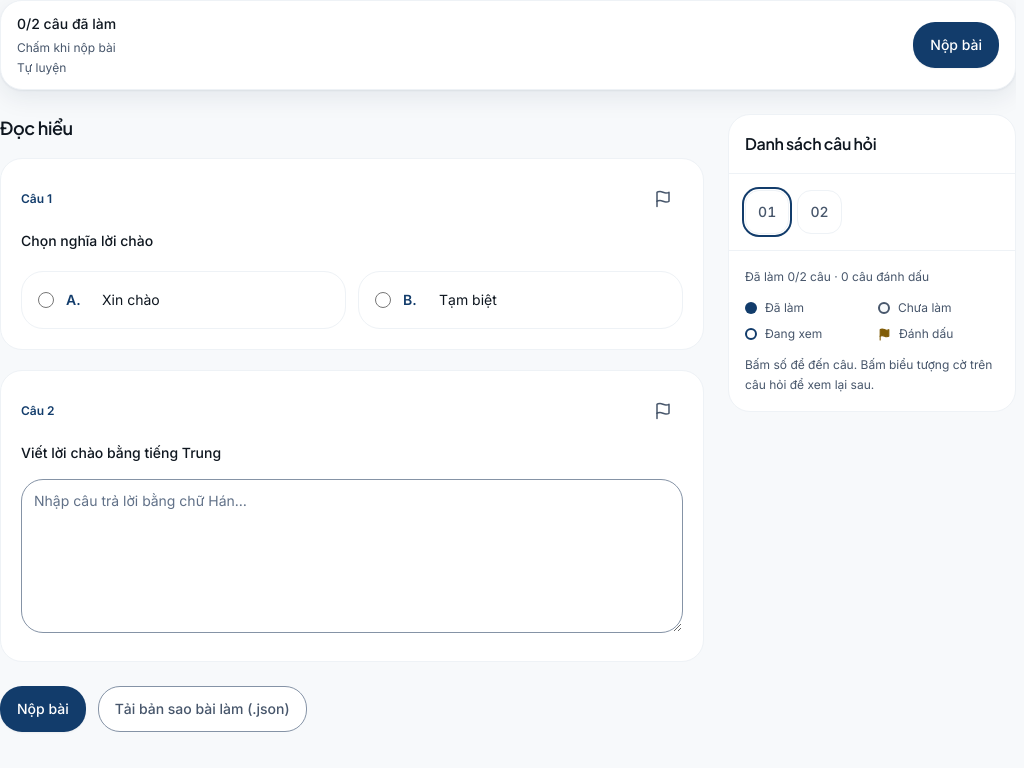
Test: announces a saved attempt once and keeps the JSON backup action explicit
Click the radio button labelled "A. Xin chào".
click(46, 300)  # box x1=38 y1=292 x2=54 y2=308
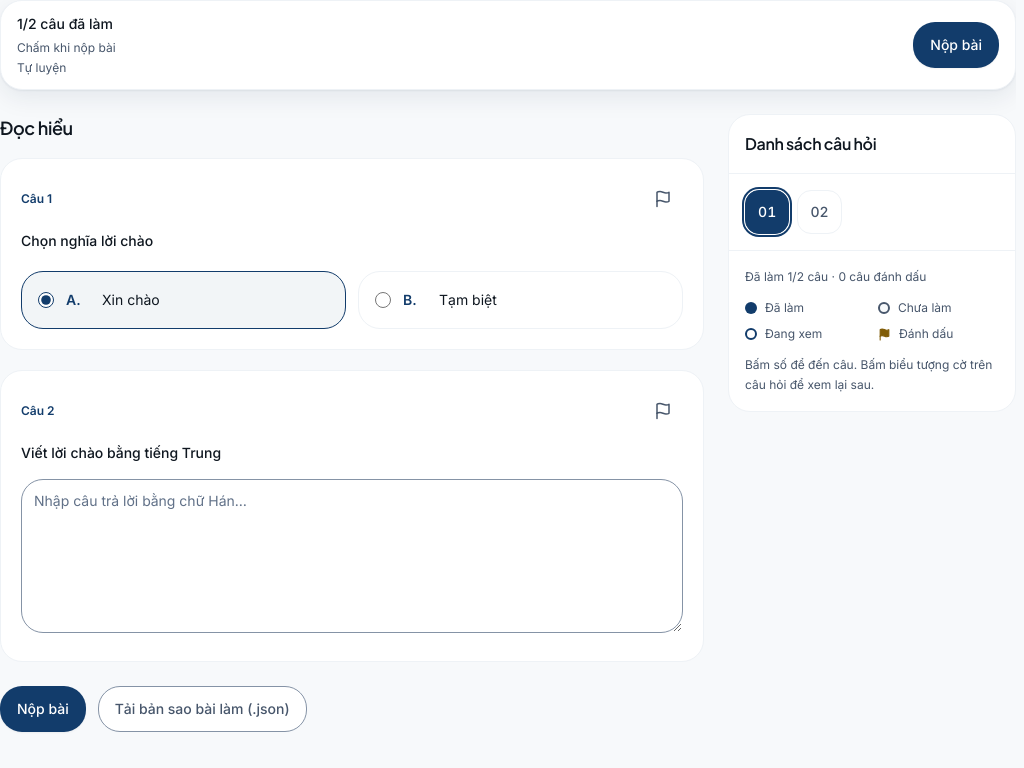
Click the button "Nộp bài" in the row of "Chấm khi nộp bài".
click(956, 45)  # box x1=913 y1=22 x2=999 y2=68
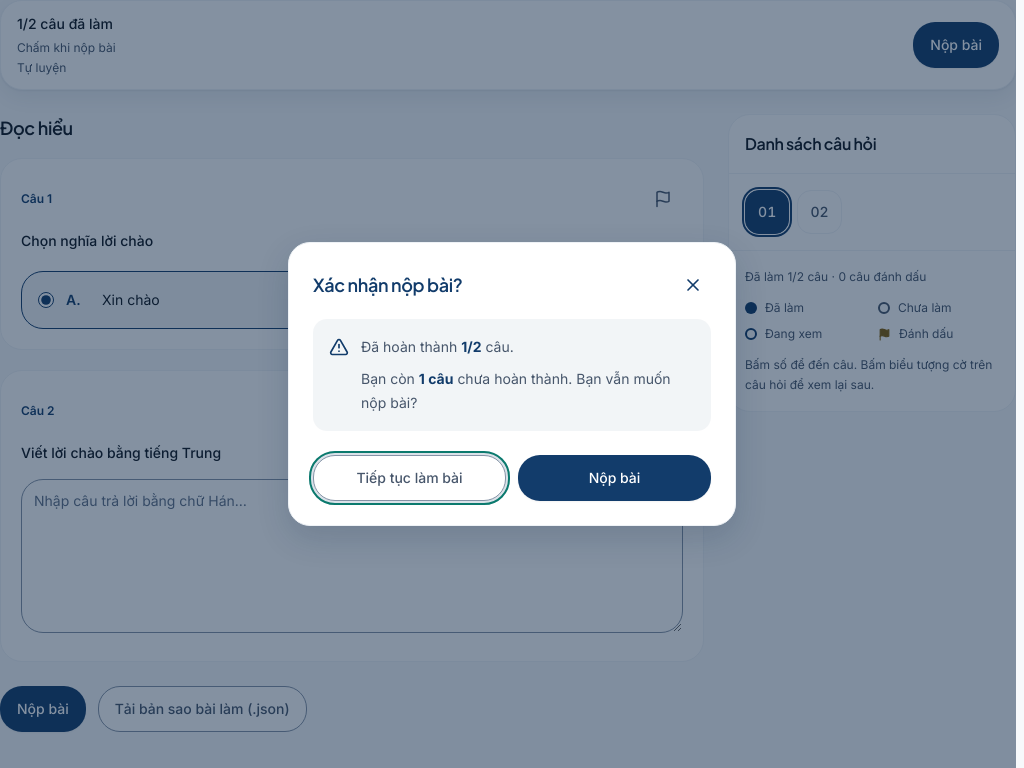
Click the button "Nộp bài".
click(614, 478)  # box x1=518 y1=455 x2=711 y2=501
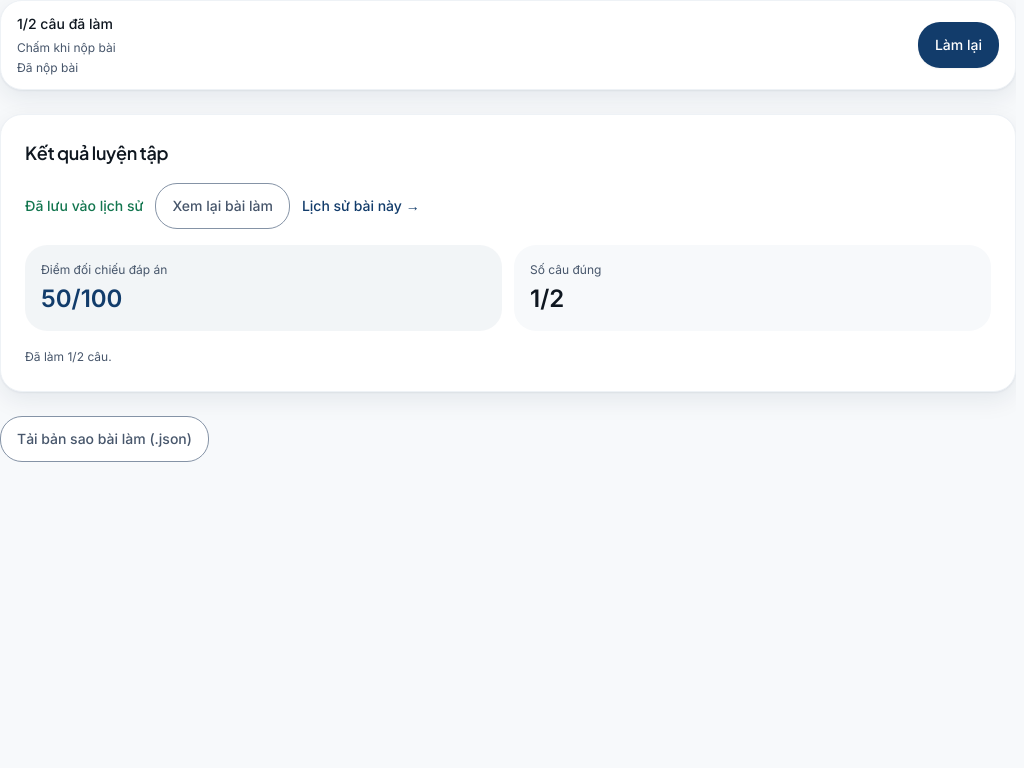
Check: the button "Tải bản sao bài làm (.json)" is shown, box x1=0 y1=416 x2=209 y2=462
Check: the message reads "Đã lưu vào lịch sử", box x1=25 y1=197 x2=143 y2=214
Check: the text "Đã lưu vào lịch sử" is shown once, box x1=25 y1=195 x2=143 y2=217
